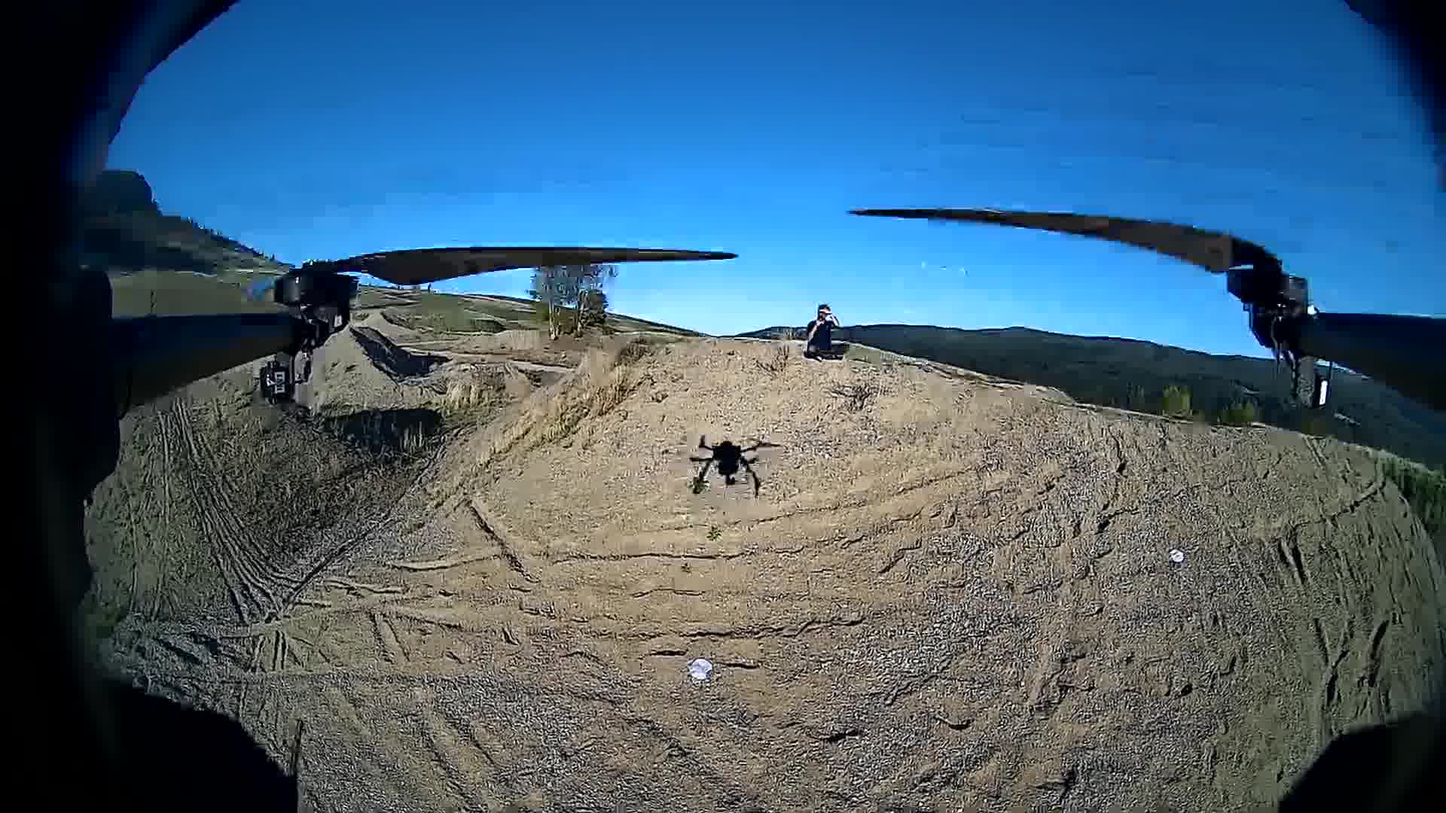Target: (687, 657, 712, 679), (1167, 548, 1185, 564)
